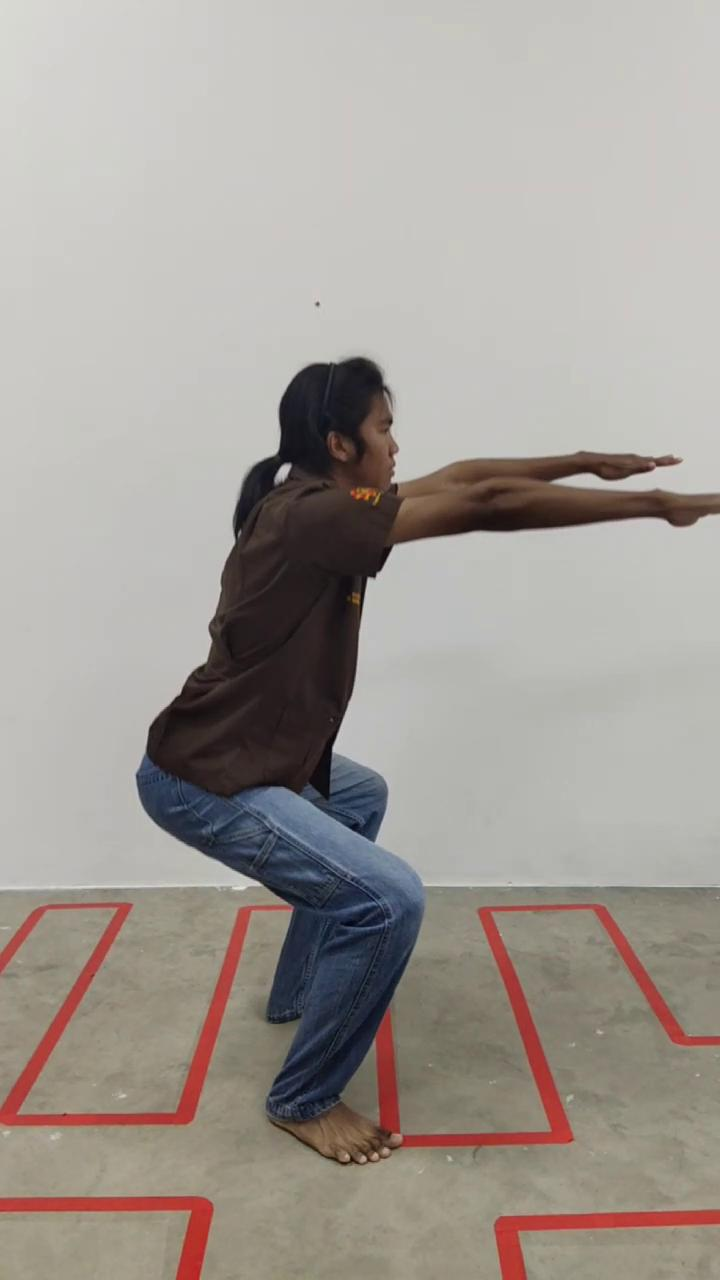squat down: (137, 355, 697, 1171)
